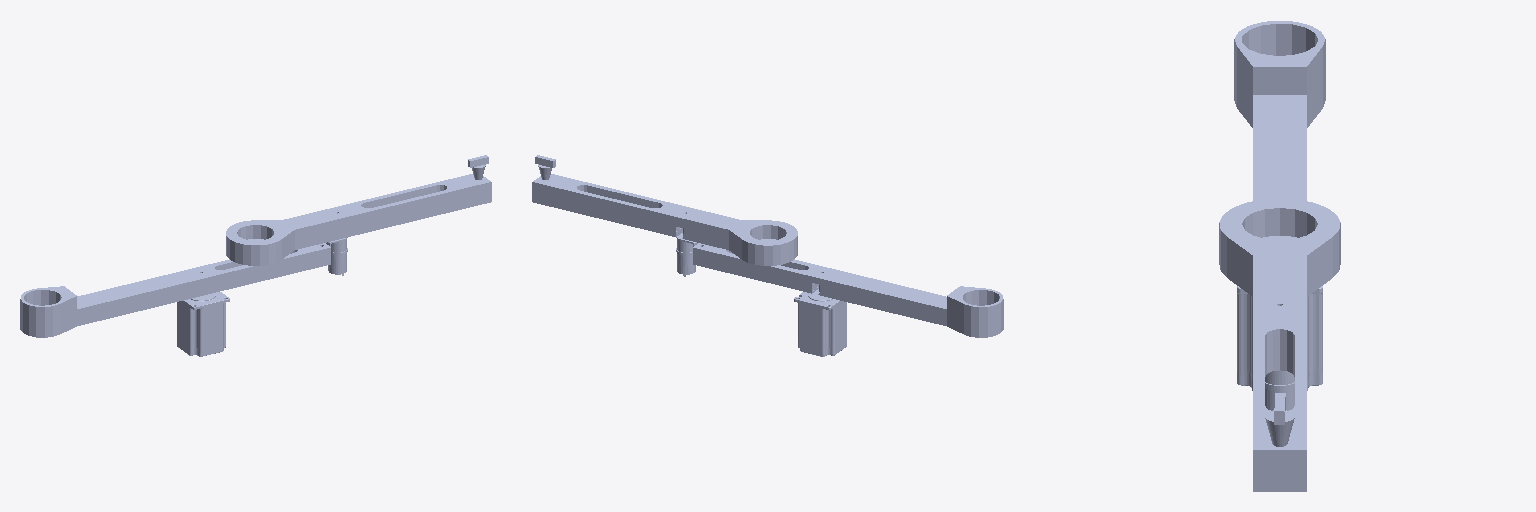
URDF robot description (URDF readySLDASM):
<?xml version="1.0" encoding="utf-8"?>
<!-- This URDF was automatically created by SolidWorks to URDF Exporter! Originally created by [author] ([email redacted]) 
     Commit Version: 1.6.0-1-g15f4949  Build Version: 1.6.7594.29634
     For more information, please see http://wiki.ros.org/sw_urdf_exporter -->
<robot
  name="URDF readySLDASM">
  <link
    name="base_link">
    <inertial>
      <origin
        xyz="-1.21438856483212E-05 -7.88297985188438E-06 0.0384433351833047"
        rpy="0 0 0" />
      <mass
        value="0.215478194166762" />
      <inertia
        ixx="8.64907439125203E-05"
        ixy="4.34963908748107E-08"
        ixz="7.77088059636842E-09"
        iyy="8.64496606679992E-05"
        iyz="4.75823502430247E-09"
        izz="9.73631709609537E-05" />
    </inertial>
    <visual>
      <origin
        xyz="0 0 0"
        rpy="0 0 0" />
      <geometry>
        <mesh
          filename="package://URDF readySLDASM/meshes/base_link.STL" />
      </geometry>
      <material
        name="">
        <color
          rgba="0.792156862745098 0.819607843137255 0.933333333333333 1" />
      </material>
    </visual>
    <collision>
      <origin
        xyz="0 0 0"
        rpy="0 0 0" />
      <geometry>
        <mesh
          filename="package://URDF readySLDASM/meshes/base_link.STL" />
      </geometry>
    </collision>
  </link>
  <link
    name="link_1">
    <inertial>
      <origin
        xyz="-0.059859 -6.5633E-05 0.038764"
        rpy="0 0 0" />
      <mass
        value="0.40723" />
      <inertia
        ixx="9.6946E-05"
        ixy="2.0411E-06"
        ixz="7.5876E-05"
        iyy="0.0070063"
        iyz="-1.5645E-07"
        izz="0.0070279" />
    </inertial>
    <visual>
      <origin
        xyz="0 0 0"
        rpy="0 0 0" />
      <geometry>
        <mesh
          filename="package://URDF readySLDASM/meshes/link_1.STL" />
      </geometry>
      <material
        name="">
        <color
          rgba="0.79216 0.81961 0.93333 1" />
      </material>
    </visual>
    <collision>
      <origin
        xyz="0 0 0"
        rpy="0 0 0" />
      <geometry>
        <mesh
          filename="package://URDF readySLDASM/meshes/link_1.STL" />
      </geometry>
    </collision>
  </link>
  <joint
    name="join_1"
    type="continuous">
    <origin
      xyz="0 0 0.0586"
      rpy="0 0 0" />
    <parent
      link="base_link" />
    <child
      link="link_1" />
    <axis
      xyz="0 0 1" />
  </joint>
  <link
    name="link_2">
    <inertial>
      <origin
        xyz="0.001964 -0.0018649 0.014549"
        rpy="0 0 0" />
      <mass
        value="0.36777" />
      <inertia
        ixx="0.00011626"
        ixy="-5.1481E-08"
        ixz="-2.5759E-05"
        iyy="0.0052305"
        iyz="-1.6935E-07"
        izz="0.0052904" />
    </inertial>
    <visual>
      <origin
        xyz="0 0 0"
        rpy="0 0 0" />
      <geometry>
        <mesh
          filename="package://URDF readySLDASM/meshes/link_2.STL" />
      </geometry>
      <material
        name="">
        <color
          rgba="0.79216 0.81961 0.93333 1" />
      </material>
    </visual>
    <collision>
      <origin
        xyz="0 0 0"
        rpy="0 0 0" />
      <geometry>
        <mesh
          filename="package://URDF readySLDASM/meshes/link_2.STL" />
      </geometry>
    </collision>
  </link>
  <joint
    name="join_2"
    type="continuous">
    <origin
      xyz="0.20874 0.0017933 0.0588"
      rpy="0 0 0" />
    <parent
      link="link_1" />
    <child
      link="link_2" />
    <axis
      xyz="0 0 1" />
  </joint>
  <link
    name="end_effector">
    <inertial>
      <origin
        xyz="7.6198E-05 0.0036458 0.016595"
        rpy="0 0 0" />
      <mass
        value="0.0056065" />
      <inertia
        ixx="4.033E-07"
        ixy="2.7707E-09"
        ixz="1.1142E-13"
        iyy="5.2575E-07"
        iyz="3.4078E-13"
        izz="2.5945E-07" />
    </inertial>
    <visual>
      <origin
        xyz="0 0 0"
        rpy="0 0 0" />
      <geometry>
        <mesh
          filename="package://URDF readySLDASM/meshes/end_effector.STL" />
      </geometry>
      <material
        name="">
        <color
          rgba="0.79216 0.81961 0.93333 1" />
      </material>
    </visual>
    <collision>
      <origin
        xyz="0 0 0"
        rpy="0 0 0" />
      <geometry>
        <mesh
          filename="package://URDF readySLDASM/meshes/end_effector.STL" />
      </geometry>
    </collision>
  </link>
  <joint
    name="joint_3"
    type="continuous">
    <origin
      xyz="0.21593 -0.0054392 0.03"
      rpy="0 0 0" />
    <parent
      link="link_2" />
    <child
      link="end_effector" />
    <axis
      xyz="0 0 -1" />
  </joint>
</robot>

--- What the picture shows (computed from the rendered views, not written in the file) ---
Views: 3 orthographic renders of the robot side by side, from view 1: azimuth 30°, elevation 25°; view 2: azimuth 150°, elevation 25°; view 3: azimuth 270°, elevation 25°.
Robot: URDF readySLDASM — 4 links, 3 joints (3 continuous); root link base_link; default pose: all joints at 0.
Visible links, largest first — view 1: link_1, link_2, base_link; view 2: link_1, link_2, base_link; view 3: link_2, link_1, base_link, end_effector.
Boxes of the visible links, bbox=[...] form: link_1: bbox=[20, 237, 347, 337]; link_2: bbox=[226, 174, 491, 265]; base_link: bbox=[177, 292, 229, 356]; link_1: bbox=[676, 228, 1003, 337]; link_2: bbox=[532, 174, 797, 265]; base_link: bbox=[794, 285, 846, 356]; link_2: bbox=[1219, 198, 1340, 491]; link_1: bbox=[1234, 21, 1325, 410]; base_link: bbox=[1237, 286, 1322, 390]; end_effector: bbox=[1265, 393, 1294, 446].
Size in the robot's own frame: 0.7126 by 0.0798 by 0.1774 metres.
Meshes: 4 distinct files referenced, 4 mesh visuals loaded (4 binary STL).